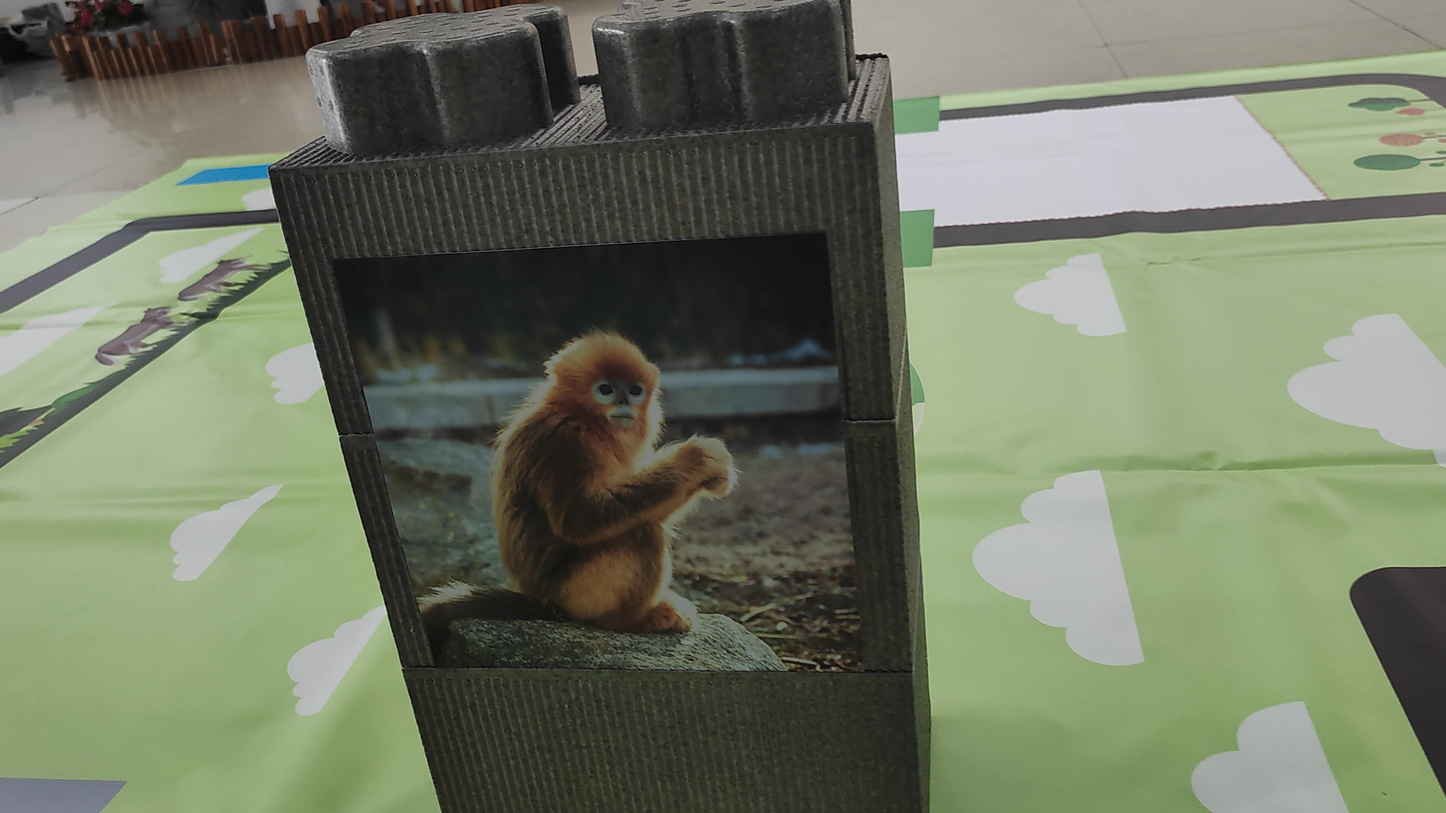monkey: (401, 304, 786, 659)
